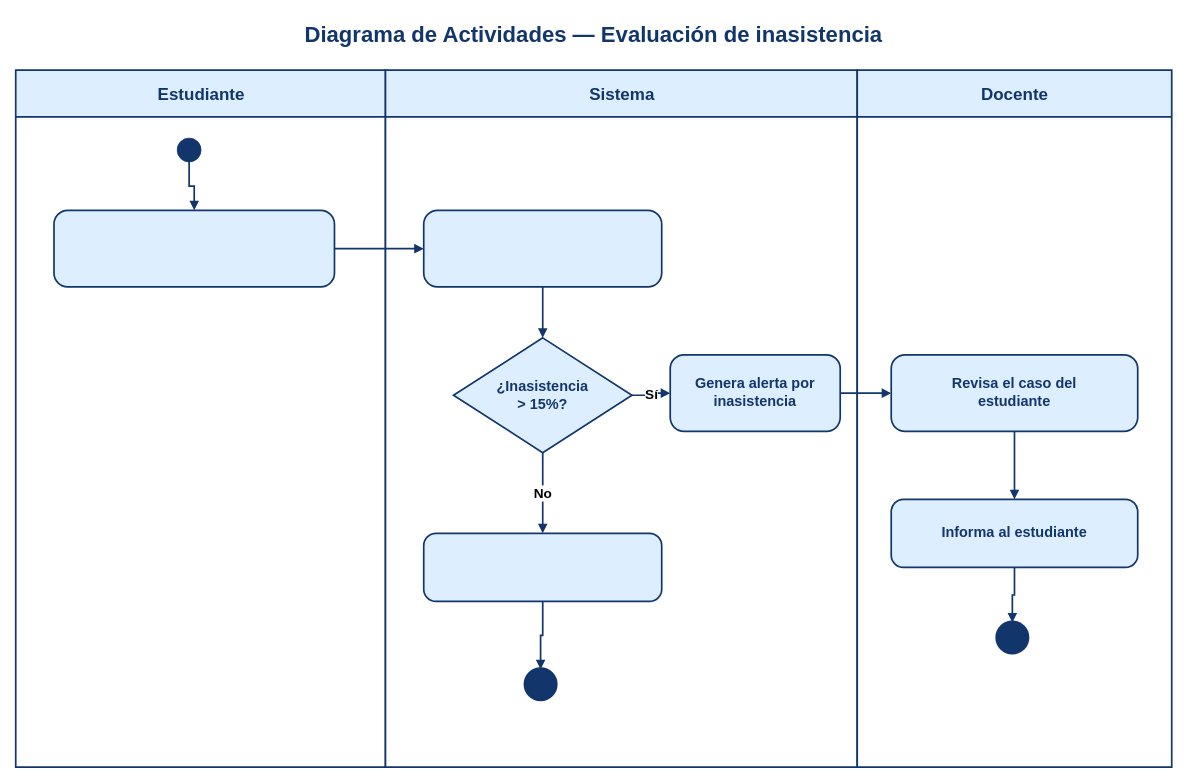
This 1187x782 diagram has some shape labels left out. The centre of each missing label's shape, as x and y in pixels:
"Calcula porcentaje de inasistencia" goes at (542,248).
"Consulta su porcentaje de inasistencia" goes at (194,248).
"Registra estado normal" goes at (542,567).
